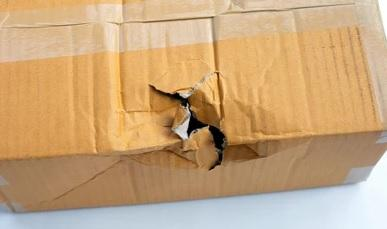damage_box: (0, 0, 385, 212)
